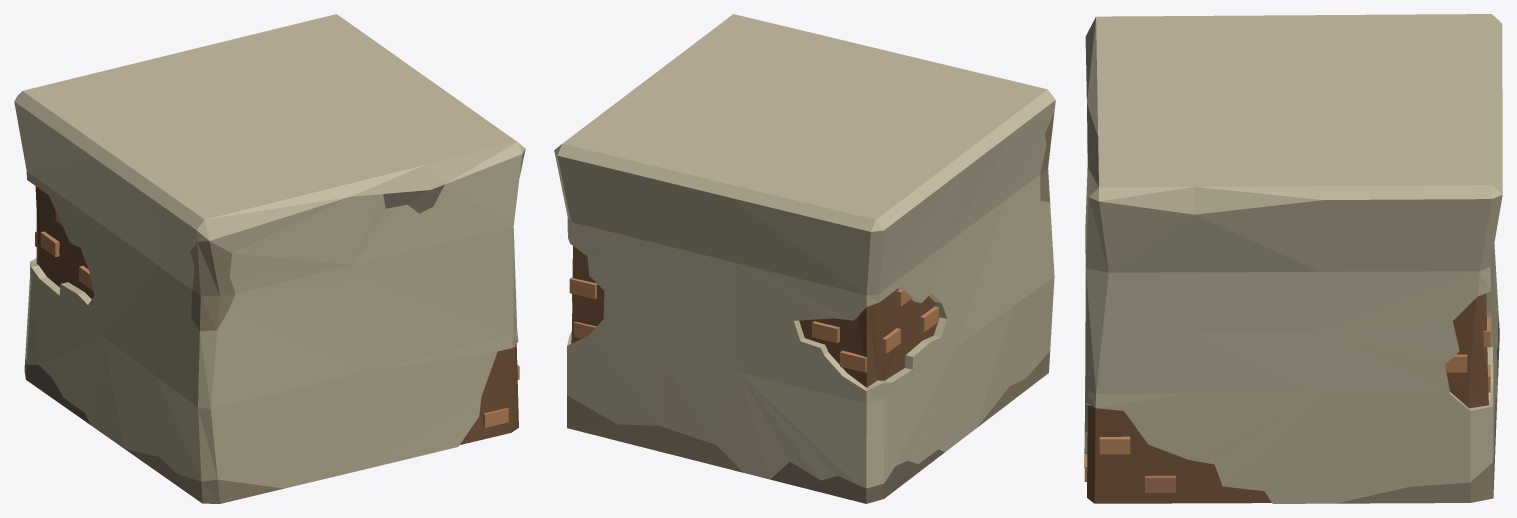
Rendered from house_d.glb.
3 views of the same model, side by side, from view 1: azimuth 30°, elevation 25°; view 2: azimuth 150°, elevation 25°; view 3: azimuth 270°, elevation 25° (orthographic). The views are drawn at different scales.
Visible parts, largest first — view 1: SM_Bld_Village_04; view 2: SM_Bld_Village_04; view 3: SM_Bld_Village_04.
Part boxes in pixels (bbox=[...]): SM_Bld_Village_04: bbox=[14, 14, 525, 503]; SM_Bld_Village_04: bbox=[554, 14, 1055, 503]; SM_Bld_Village_04: bbox=[1084, 14, 1502, 503].
Size of the model in its own units: 409 by 332 by 397.
1 material, 1 textured.
